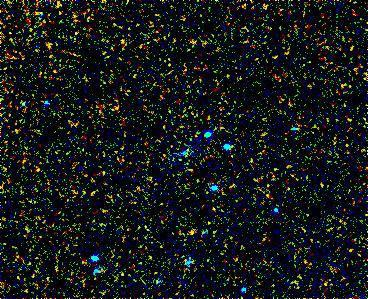star: (176, 222, 206, 252)
